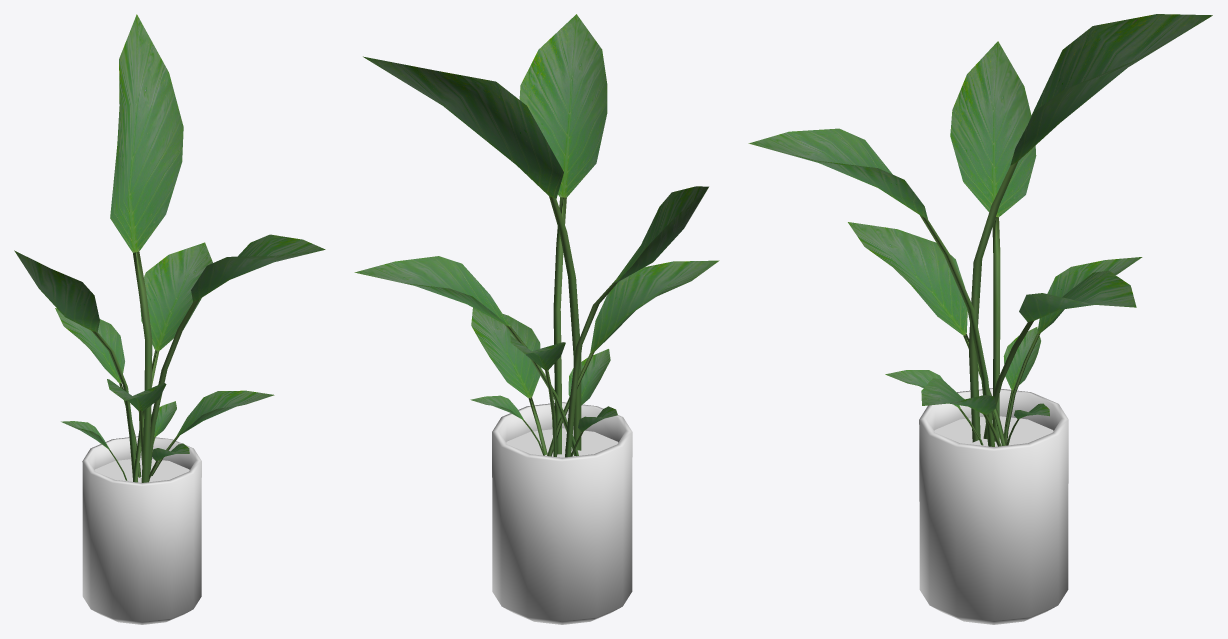
The model's file is PlantPacked.fbx.
3 renders of one model, left to right at view 1: azimuth 30°, elevation 25°; view 2: azimuth 150°, elevation 25°; view 3: azimuth 270°, elevation 25°, orthographic. The views are drawn at different scales.
Visible parts, largest first — view 1: Cube.002; view 2: Cube.002; view 3: Cube.002.
Boxes of the visible parts, box(x1,y1,x2,y2) form: Cube.002: box(14, 14, 325, 624); Cube.002: box(354, 14, 719, 624); Cube.002: box(748, 14, 1212, 624).
Size of the model in its own units: 498 by 978 by 649.
